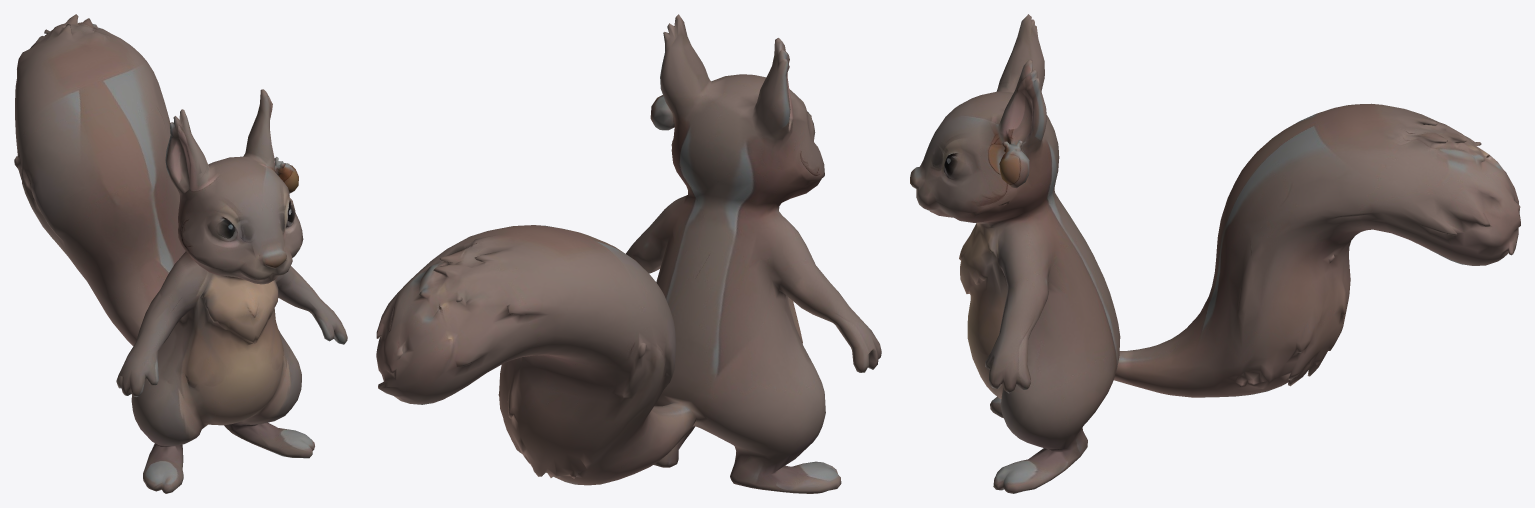
Rendered from cartoon+squirrel+3d+model.glb.
3 views of the same model, side by side, from view 1: azimuth 30°, elevation 25°; view 2: azimuth 150°, elevation 25°; view 3: azimuth 270°, elevation 25° (orthographic). The views are drawn at different scales.
Visible parts, largest first — view 1: tripo_node_769a3d49-2b6d-4bad-baad-4bf3d111ba7c; view 2: tripo_node_769a3d49-2b6d-4bad-baad-4bf3d111ba7c; view 3: tripo_node_769a3d49-2b6d-4bad-baad-4bf3d111ba7c.
Boxes of the visible parts, box(x1,y1,x2,y2) form: tripo_node_769a3d49-2b6d-4bad-baad-4bf3d111ba7c: box(14, 14, 347, 493); tripo_node_769a3d49-2b6d-4bad-baad-4bf3d111ba7c: box(376, 14, 881, 493); tripo_node_769a3d49-2b6d-4bad-baad-4bf3d111ba7c: box(910, 14, 1520, 493).
Bounding box in the file's own units: 0.4767 × 0.7476 × 0.9994.
1 material, 1 textured.
